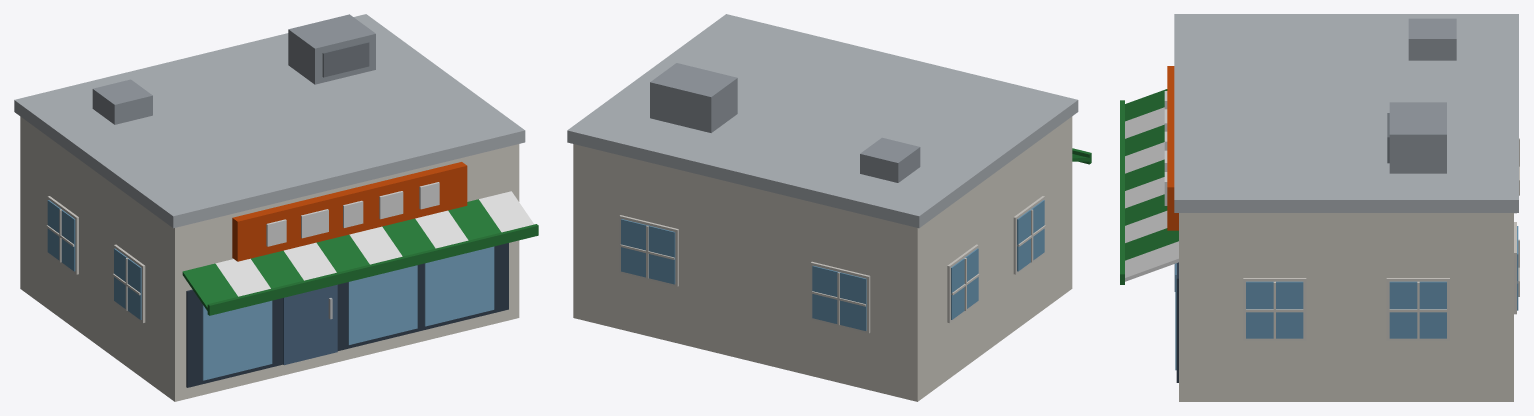
File: shop_green.glb
3 views of the same model, side by side, from view 1: azimuth 30°, elevation 25°; view 2: azimuth 150°, elevation 25°; view 3: azimuth 270°, elevation 25° (orthographic). The views are drawn at different scales.
Parts seen in each view (by area): view 1: gh_shop_green; view 2: gh_shop_green; view 3: gh_shop_green.
Part boxes in pixels (<box>): gh_shop_green: <box>14,14,538,401</box>; gh_shop_green: <box>567,14,1091,401</box>; gh_shop_green: <box>1120,14,1519,401</box>.
Size of the model in its own units: 9.24 by 5.6 by 8.35.
